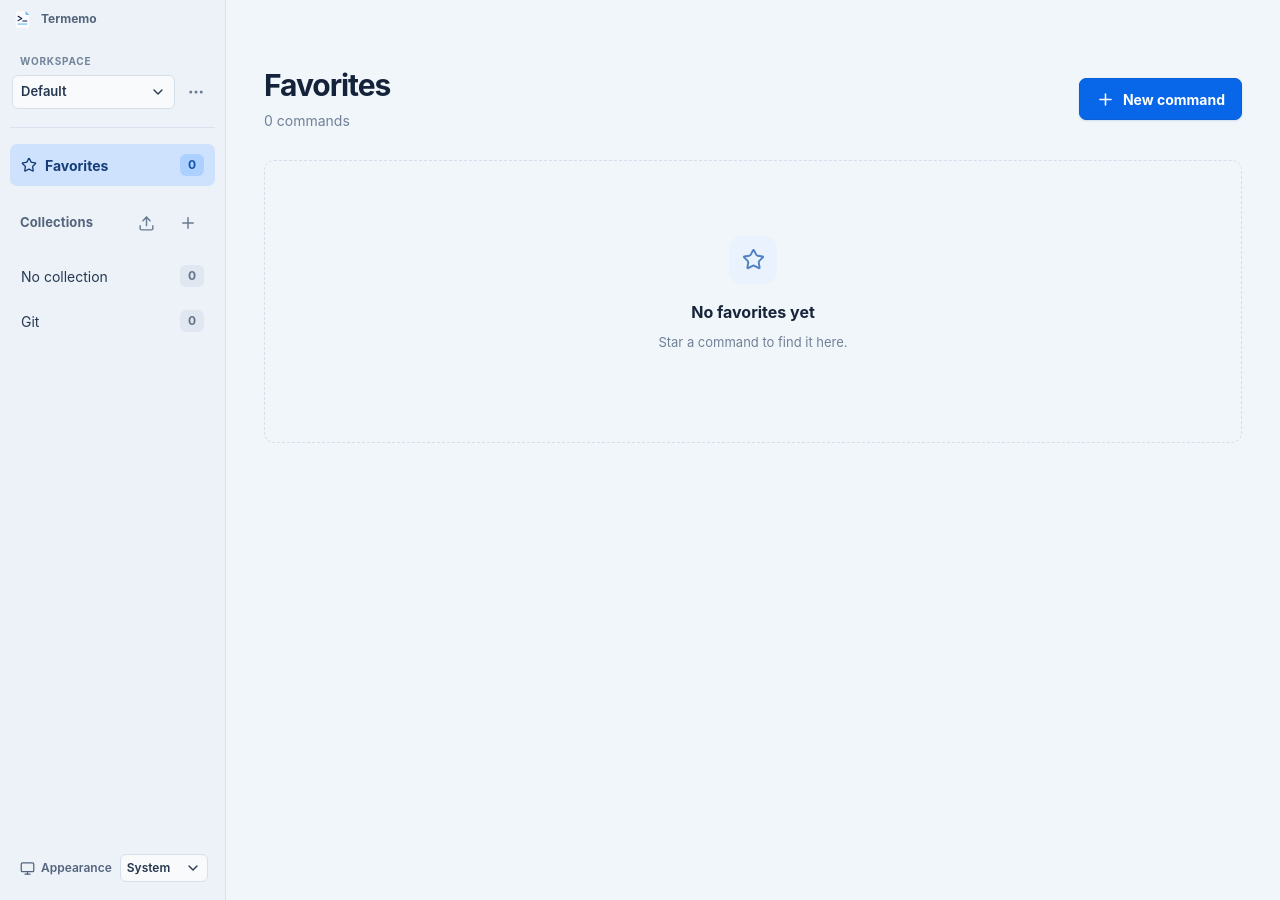
Test: imports a nested collection copy and preserves the existing library
The width and height of the screenshot is (1280, 900).
Click the button named "Import collection" at (146,223), box [129, 206, 163, 240]
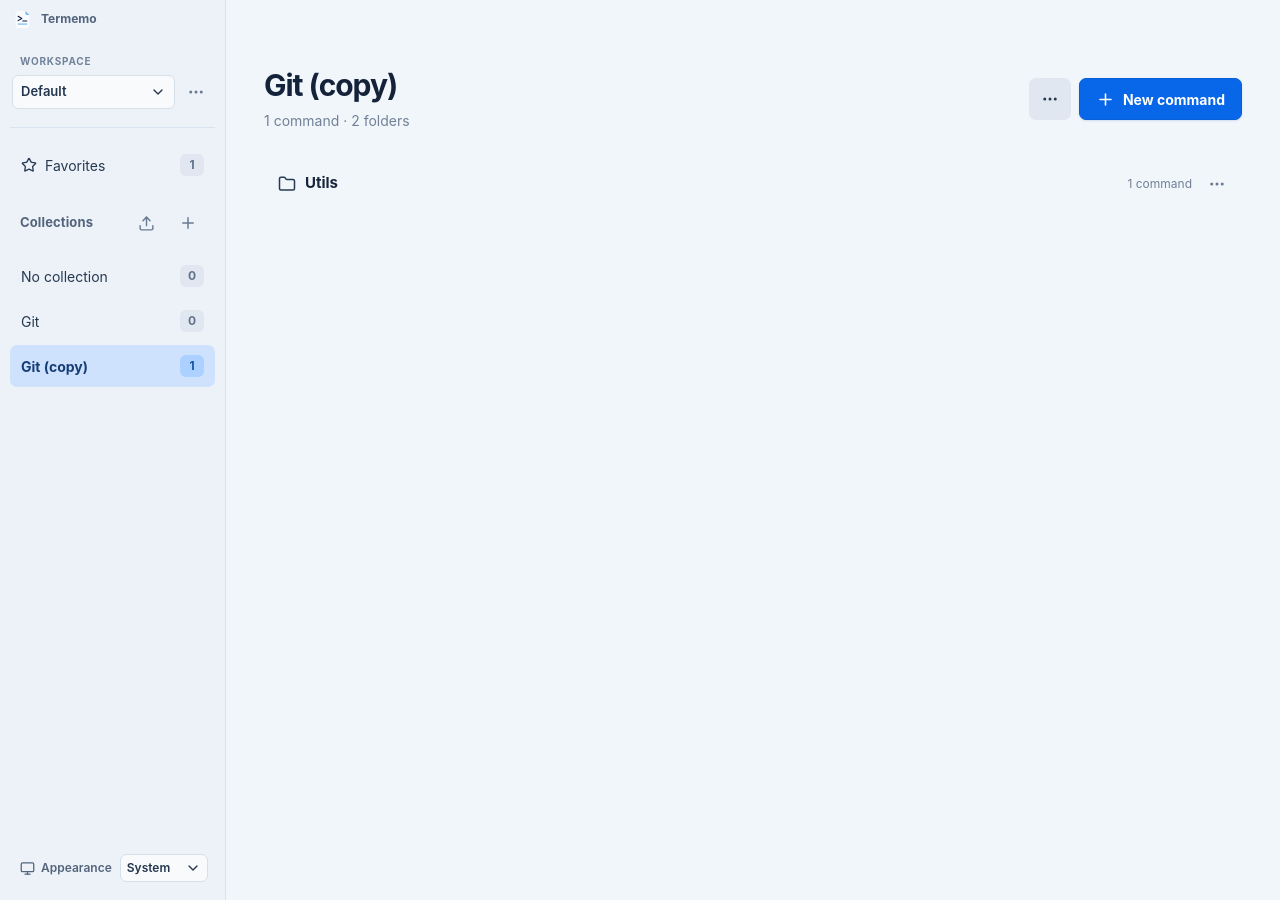
Check: the text "Git (copy)" is shown, box [21, 356, 88, 376]
Check: the heading "Git (copy)" is shown, box [264, 68, 410, 102]
